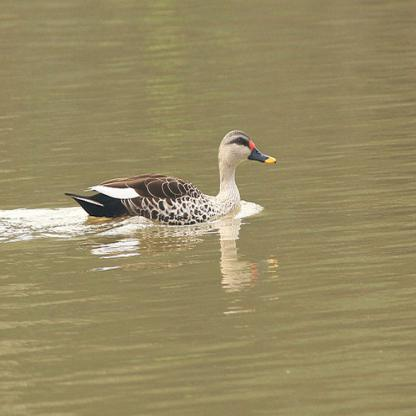Burung: (64, 129, 276, 226)
